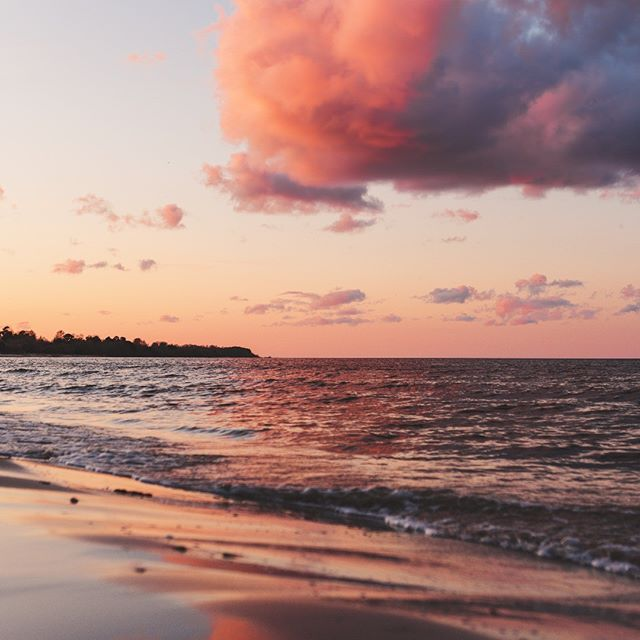sea: (1, 352, 640, 610)
sky: (1, 1, 640, 339)
